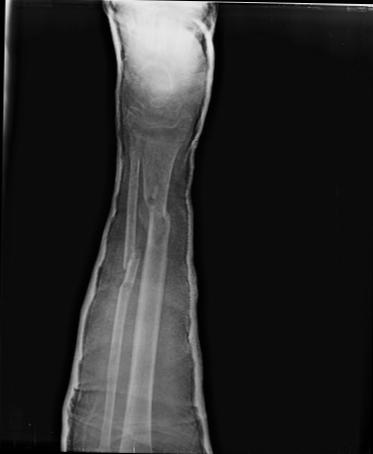fractured: (135, 181, 172, 246), (118, 243, 145, 276)
